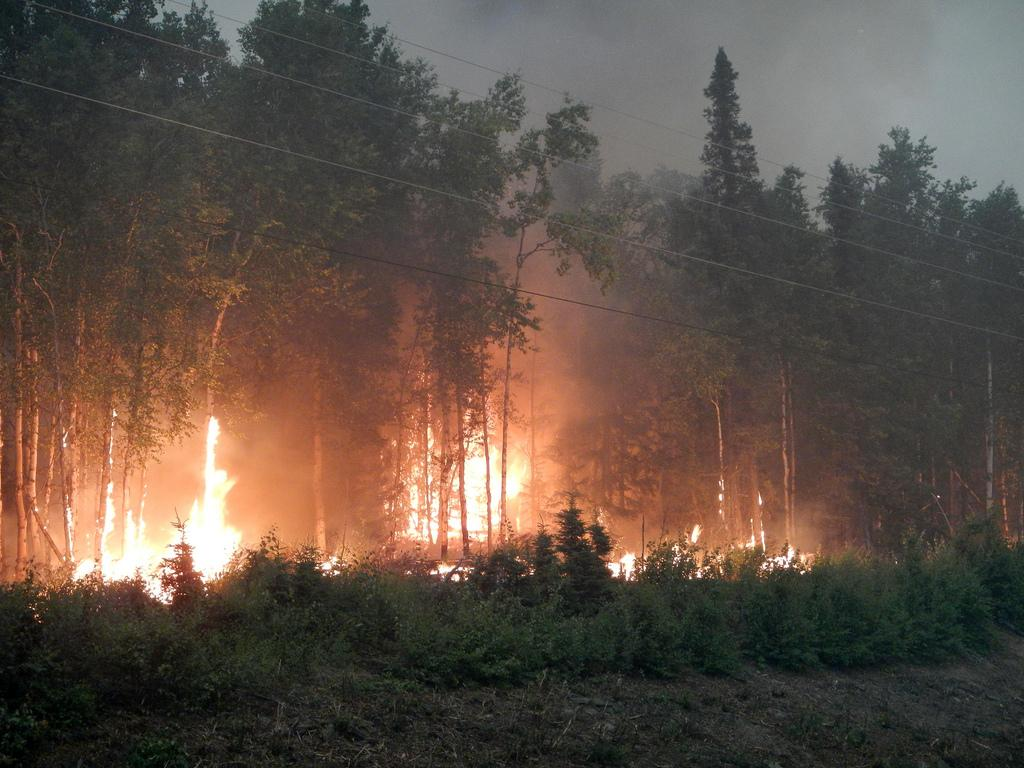fire: (194, 448, 244, 566), (458, 458, 522, 546), (104, 532, 158, 576)
